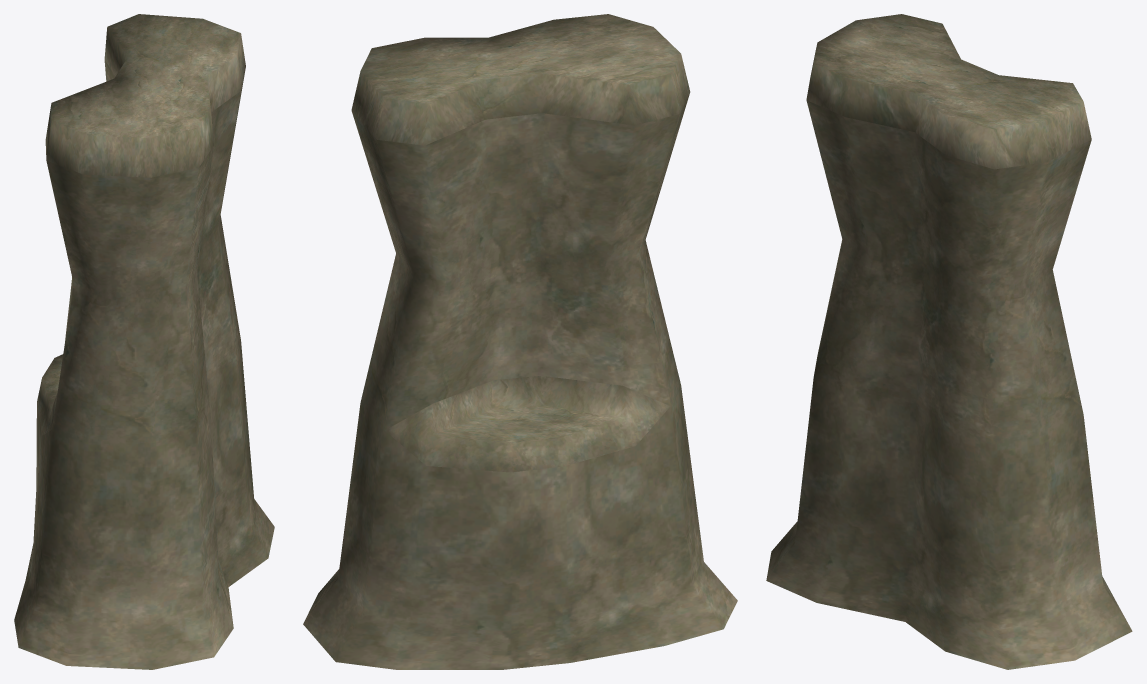
The model's file is OVERHILL_A_01_CAVE_PLATFORM.fbx.
3 renders of one model, left to right at view 1: azimuth 30°, elevation 25°; view 2: azimuth 150°, elevation 25°; view 3: azimuth 270°, elevation 25°, orthographic. The views are drawn at different scales.
Visible parts, largest first — view 1: OVERHILL_A_01_CAVE_PLATFORM; view 2: OVERHILL_A_01_CAVE_PLATFORM; view 3: OVERHILL_A_01_CAVE_PLATFORM.
Part boxes in pixels (left/top/right/bottom): OVERHILL_A_01_CAVE_PLATFORM: left=14, top=14, right=274, bottom=669; OVERHILL_A_01_CAVE_PLATFORM: left=303, top=14, right=737, bottom=669; OVERHILL_A_01_CAVE_PLATFORM: left=766, top=14, right=1132, bottom=669.
Bounding box in the file's own units: 34750 × 53553 × 34227.
1 material, 1 textured.
